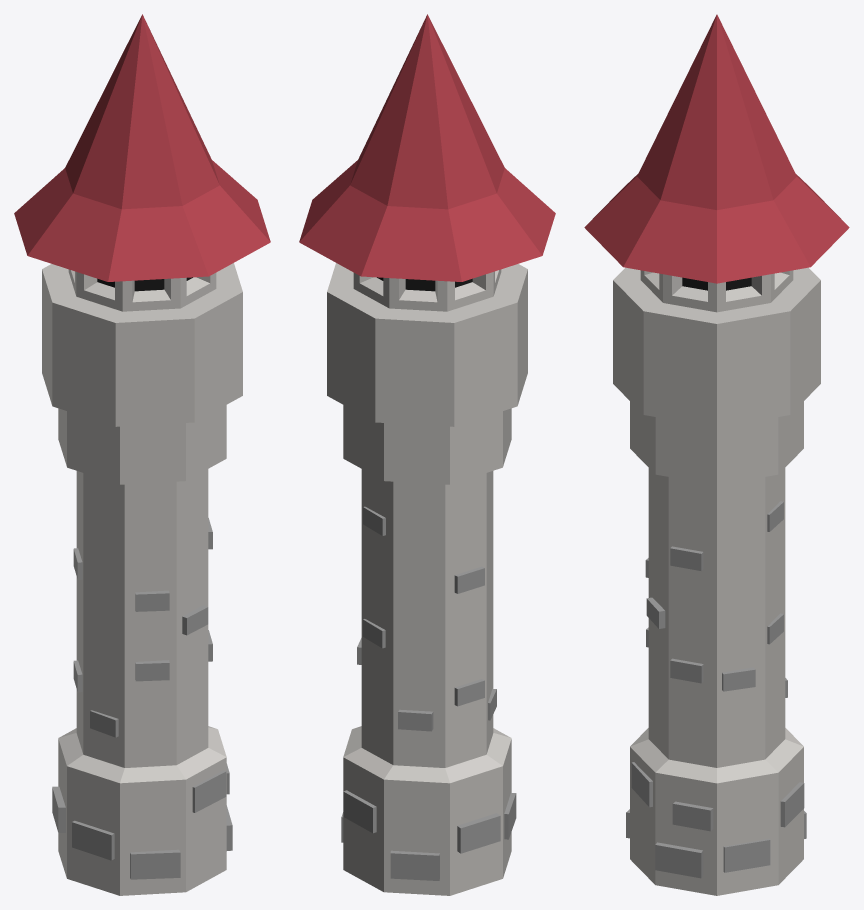
The model's file is PointyTower.glb.
3 renders of one model, left to right at view 1: azimuth 30°, elevation 25°; view 2: azimuth 150°, elevation 25°; view 3: azimuth 270°, elevation 25°, orthographic.
Visible parts, largest first — view 1: PointyTower; view 2: PointyTower; view 3: PointyTower.
Part boxes in pixels (box(x1,y1,x2,y2)): PointyTower: box(14, 14, 270, 895); PointyTower: box(299, 14, 555, 895); PointyTower: box(584, 14, 849, 895).
Size of the model in its own units: 1.53 by 5.37 by 1.53.
